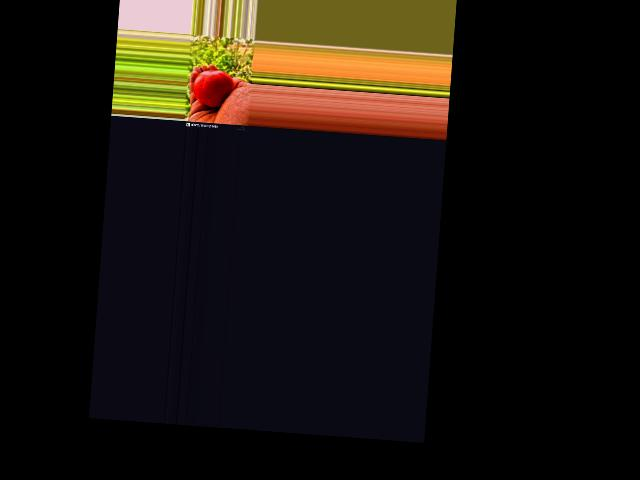tomato: (192, 69, 235, 108)
